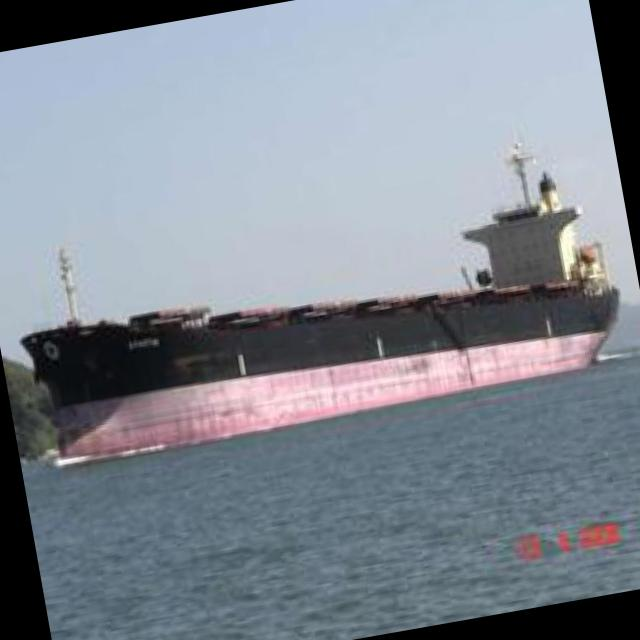boat: (13, 207, 633, 492)
